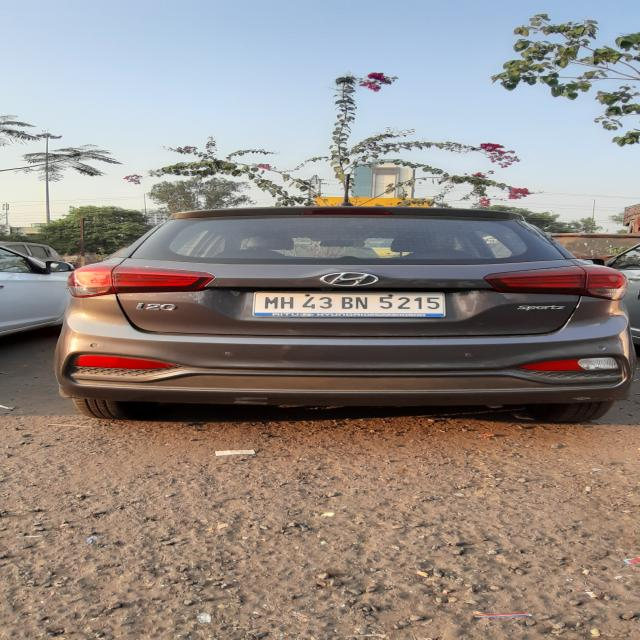Number-Plate: (255, 292, 444, 316)
